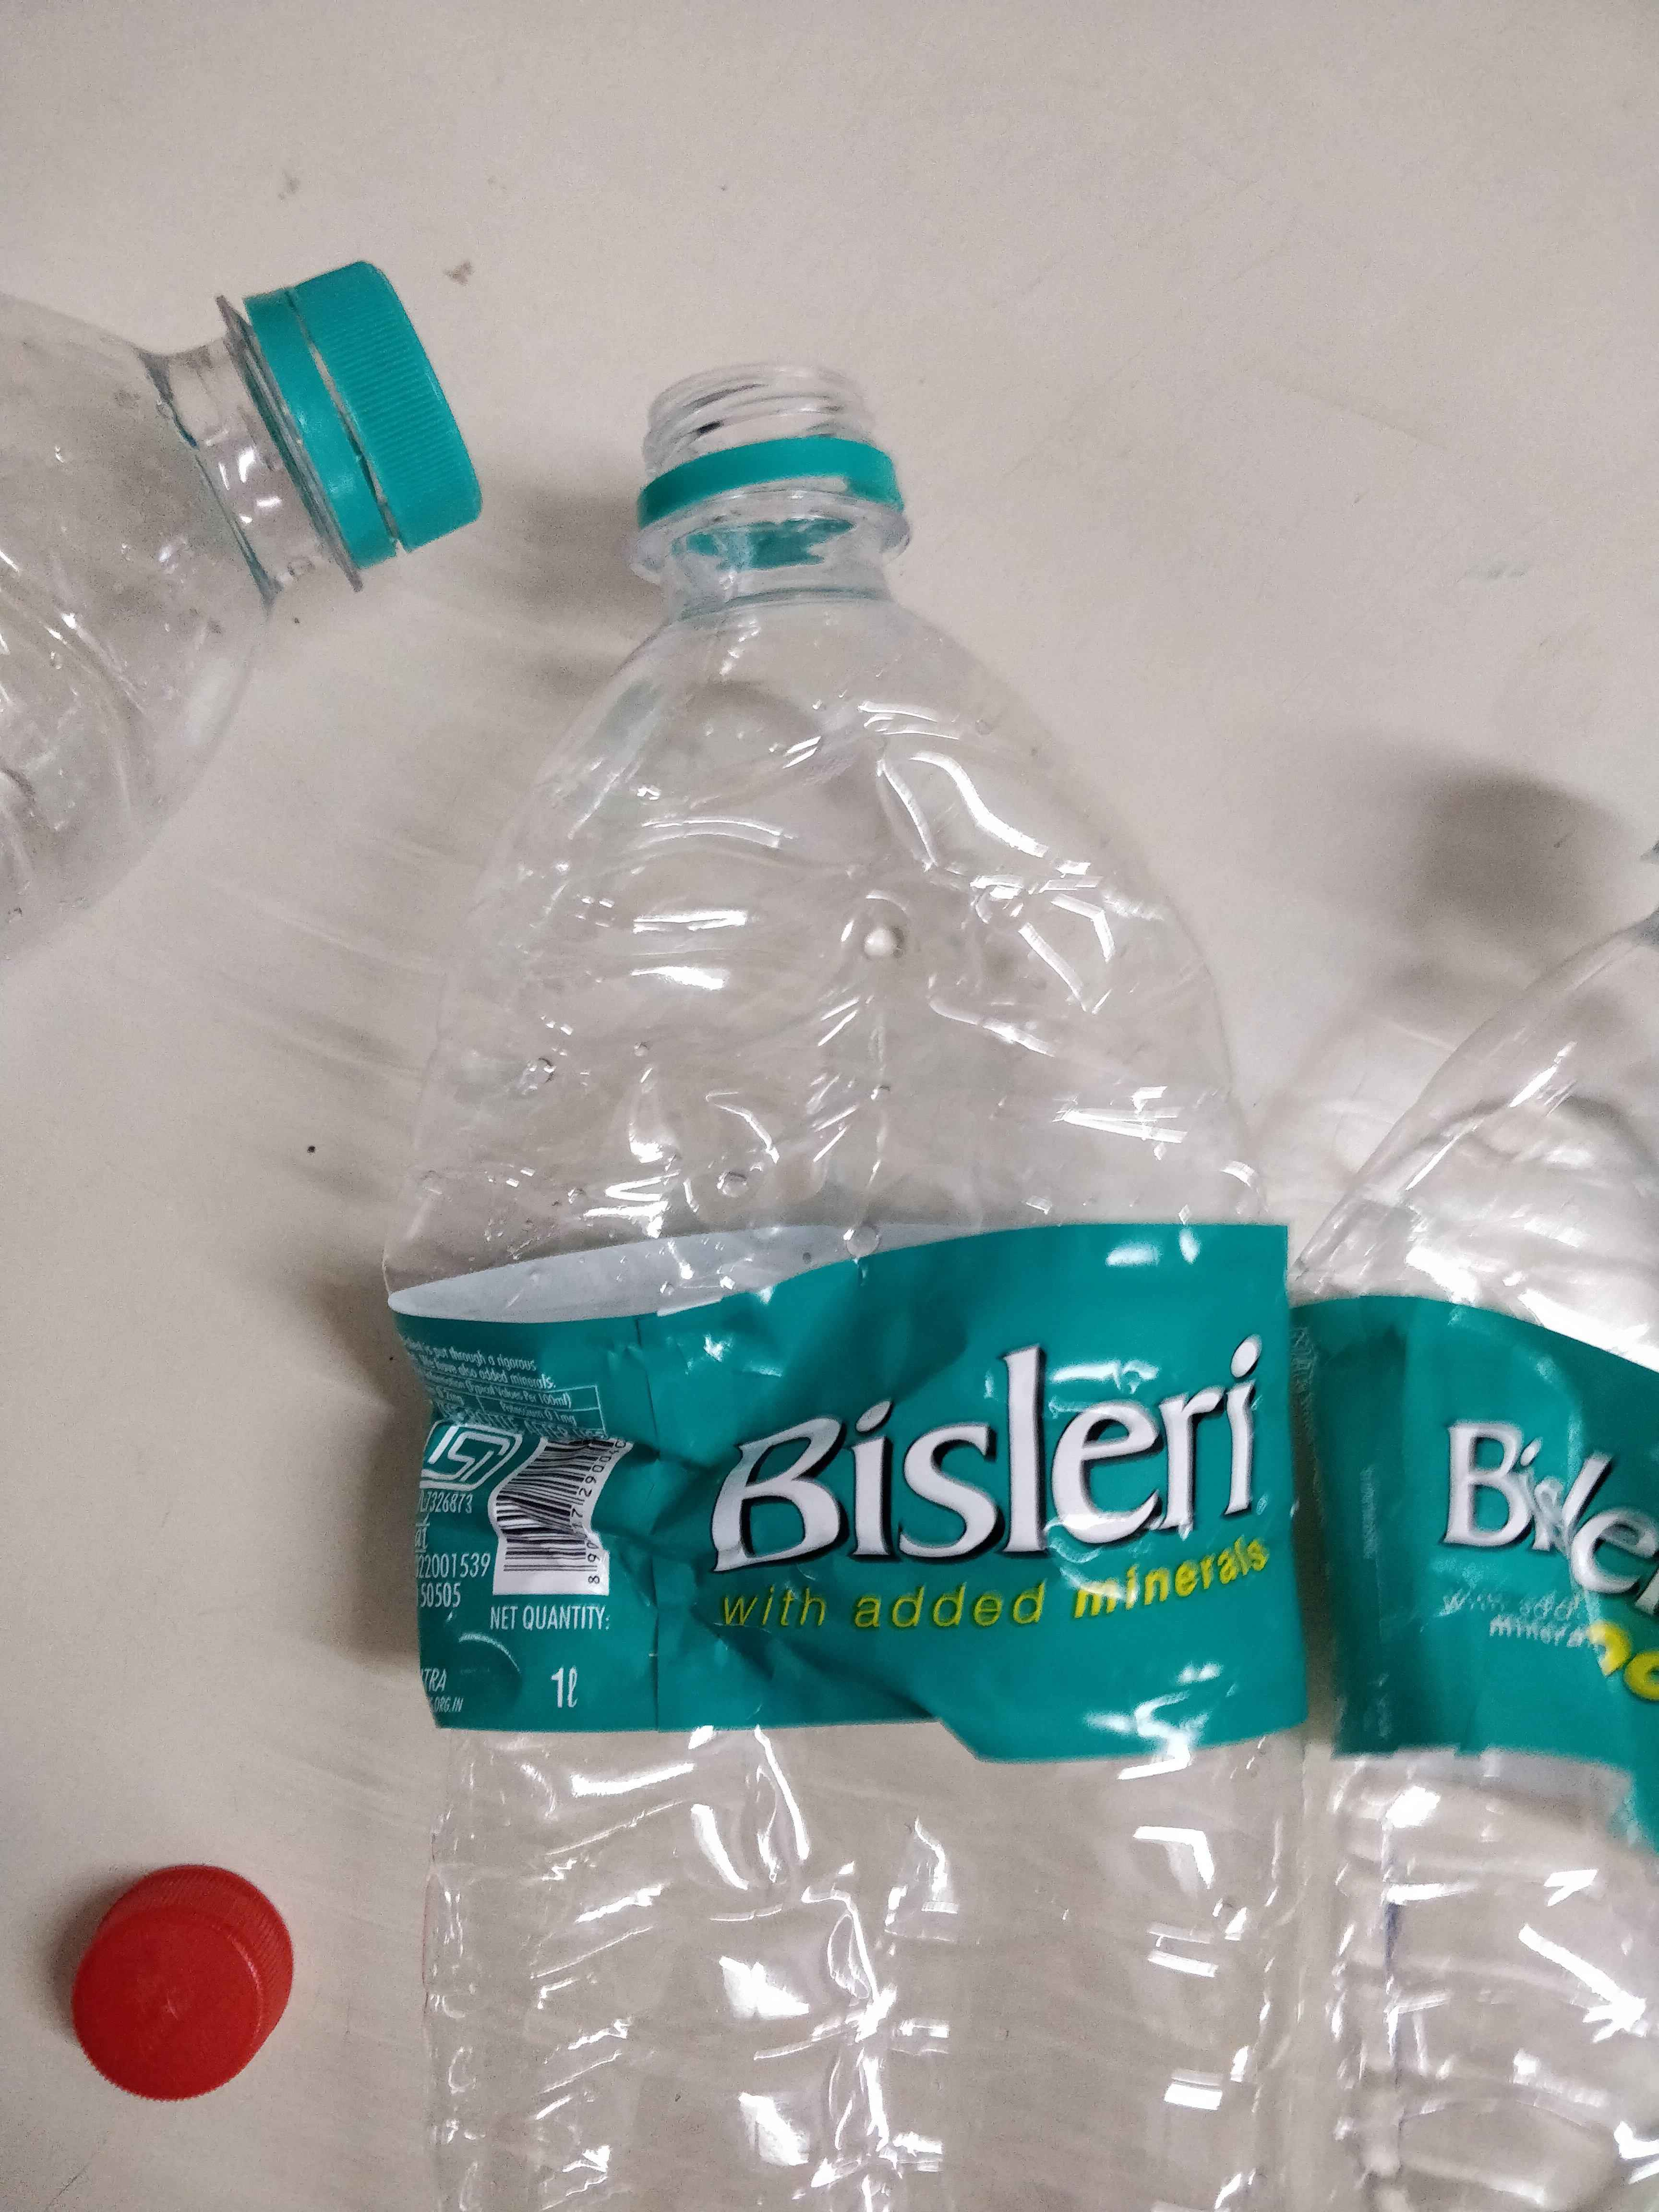Bisleri: (446, 1306, 1309, 1696), (1340, 1357, 1659, 1663)
